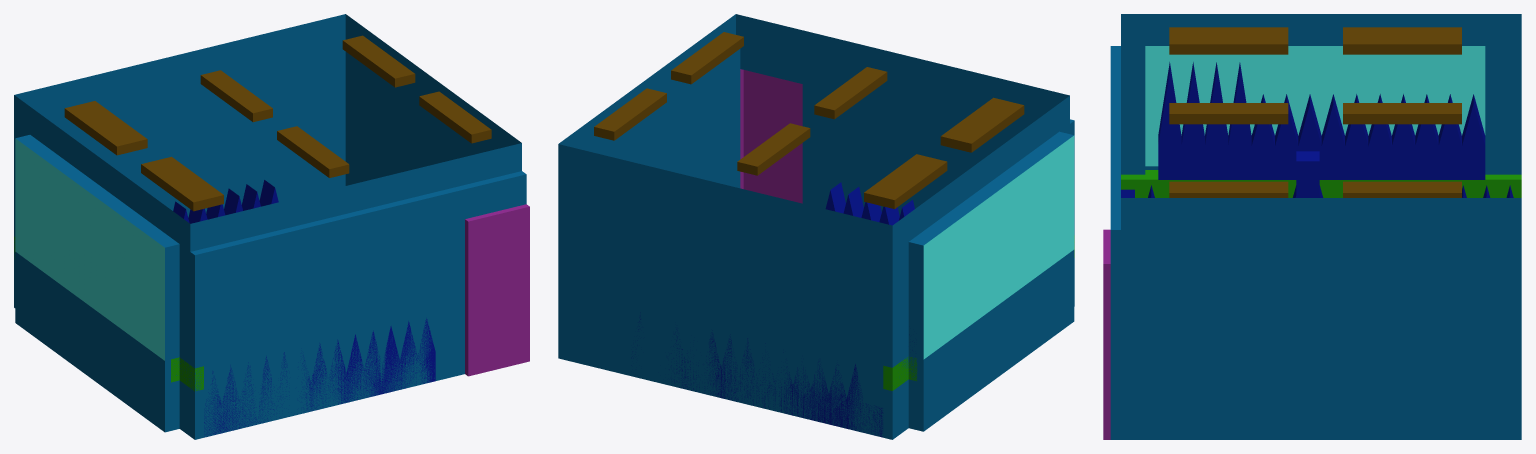
3 renders of one model, left to right at view 1: azimuth 30°, elevation 25°; view 2: azimuth 150°, elevation 25°; view 3: azimuth 270°, elevation 25°, orthographic. The views are drawn at different scales.
Visible parts, largest first — view 1: Group10, Group9, Group11, Group6, Group2, Group4, Group3, Group5, Group7, AbsorptionWedge36, Group8, AbsorptionWedge13 (+6 smaller); view 2: Group10, Group9, Group11, Group2, Group6, Group7, Group5, Group3, Group4, Group8, AbsorptionWedge22, AbsorptionWedge21 (+3 smaller); view 3: Group10, Group9, Group2, Group6, Group8, Group5, Group7, Group3, Group4, Group15, Group11, Group14 (+13 smaller).
Part boxes in pixels (x1=…): Group10: x1=14, y1=14, x2=526, y2=439; Group9: x1=15, y1=138, x2=164, y2=360; Group11: x1=465, y1=204, x2=529, y2=376; Group6: x1=64, y1=101, x2=147, y2=155; Group2: x1=141, y1=156, x2=223, y2=211; Group4: x1=342, y1=35, x2=415, y2=87; Group3: x1=419, y1=91, x2=491, y2=143; Group5: x1=277, y1=126, x2=349, y2=177; Group7: x1=200, y1=70, x2=272, y2=122; AbsorptionWedge36: x1=382, y1=326, x2=399, y2=394; Group8: x1=14, y1=236, x2=203, y2=391; AbsorptionWedge13: x1=346, y1=334, x2=364, y2=402; Group10: x1=558, y1=14, x2=1074, y2=439; Group9: x1=923, y1=135, x2=1074, y2=359; Group11: x1=740, y1=69, x2=802, y2=203; Group2: x1=940, y1=97, x2=1024, y2=152; Group6: x1=864, y1=154, x2=947, y2=208; Group7: x1=737, y1=123, x2=810, y2=175; Group5: x1=814, y1=67, x2=887, y2=119; Group3: x1=671, y1=32, x2=743, y2=84; Group4: x1=594, y1=88, x2=666, y2=140; Group8: x1=883, y1=235, x2=1074, y2=390; AbsorptionWedge22: x1=828, y1=364, x2=846, y2=428; AbsorptionWedge21: x1=810, y1=361, x2=828, y2=424; Group10: x1=1110, y1=14, x2=1521, y2=439; Group9: x1=1145, y1=46, x2=1485, y2=166; Group2: x1=1169, y1=27, x2=1288, y2=54; Group6: x1=1343, y1=27, x2=1461, y2=54; Group8: x1=1121, y1=170, x2=1521, y2=197; Group5: x1=1169, y1=103, x2=1288, y2=124; Group7: x1=1343, y1=103, x2=1461, y2=124; Group3: x1=1169, y1=181, x2=1288, y2=197; Group4: x1=1343, y1=181, x2=1461, y2=197; Group15: x1=1158, y1=62, x2=1181, y2=179; Group11: x1=1103, y1=229, x2=1110, y2=439; Group14: x1=1181, y1=62, x2=1204, y2=179.
Bounding box in the file's own units: 4.87 × 2.86 × 4.48.
